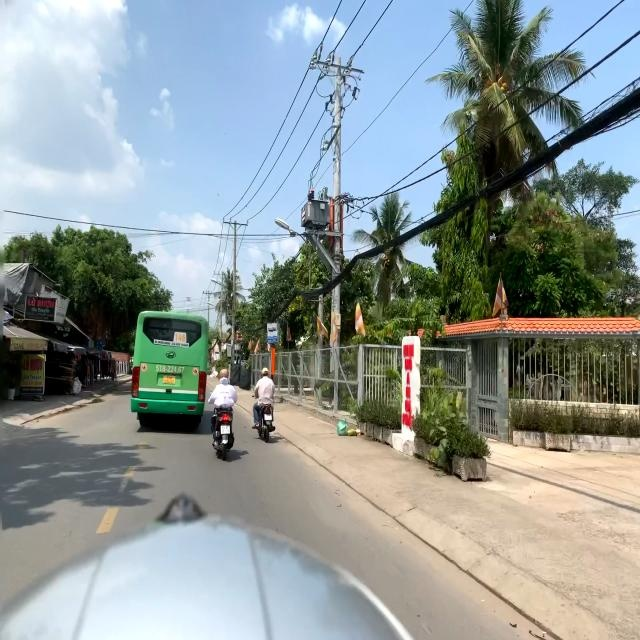bien_chi_dan: (268, 323, 280, 344)
